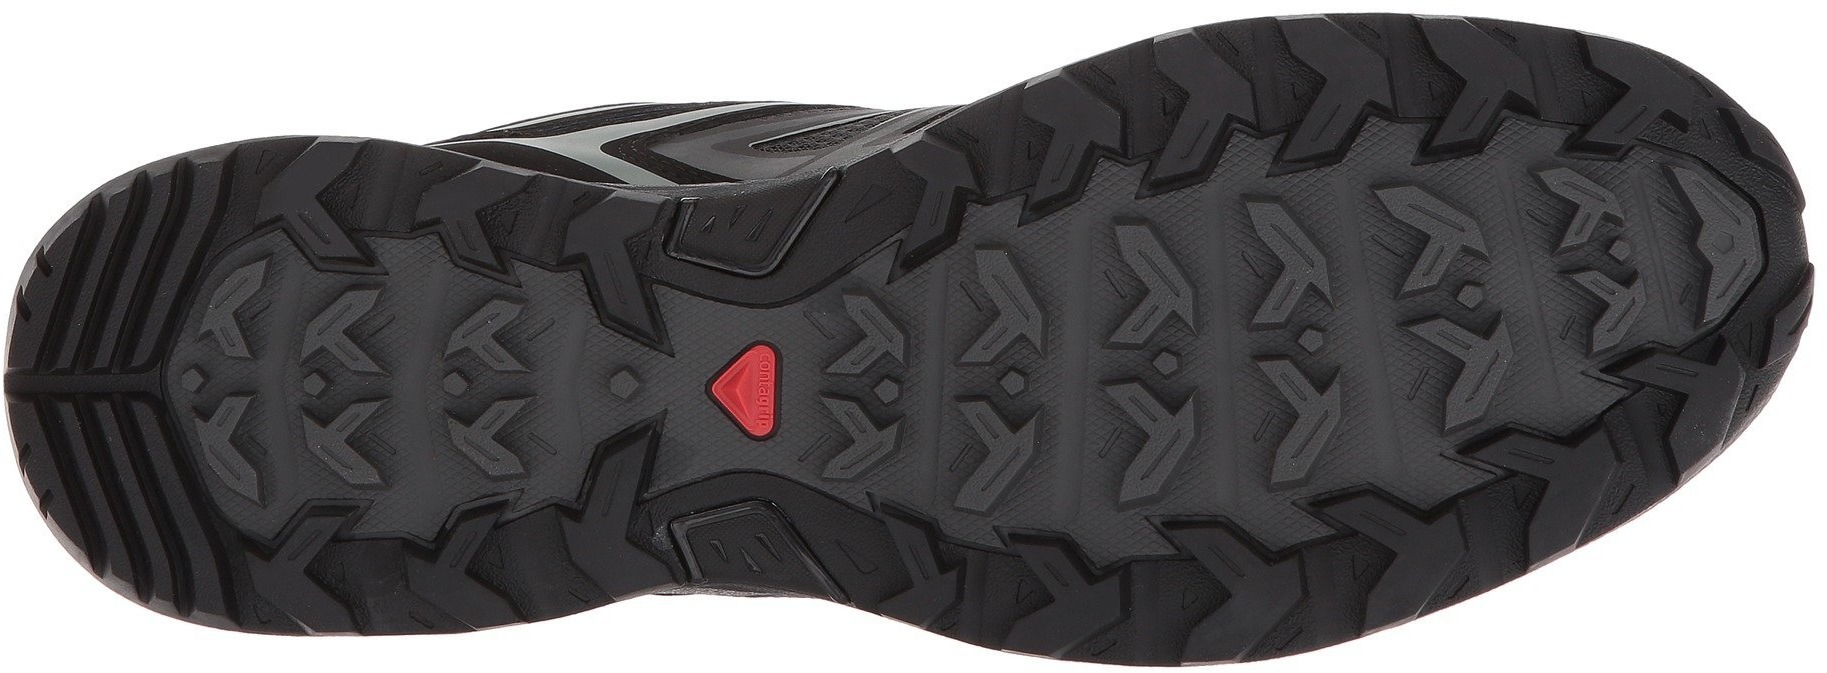chevron: (162, 208, 560, 571), (756, 285, 955, 491), (1625, 148, 1814, 338), (35, 313, 175, 448), (960, 316, 1082, 439), (1165, 554, 1246, 626)
exclude: (602, 583, 881, 646)
line: (1500, 158, 1690, 361), (960, 316, 1082, 439)
polygon: (1500, 158, 1690, 361), (960, 316, 1082, 439), (586, 343, 668, 427), (1143, 335, 1209, 395), (862, 367, 912, 415)
quad: (1500, 158, 1690, 361), (651, 154, 847, 277), (52, 198, 233, 331), (57, 418, 230, 557), (657, 496, 851, 605), (960, 316, 1082, 439), (1143, 335, 1209, 395)
star: (1500, 158, 1690, 361)
triangle: (651, 154, 847, 277), (657, 496, 851, 605), (687, 333, 798, 447), (1165, 554, 1246, 626), (1334, 543, 1387, 585)
